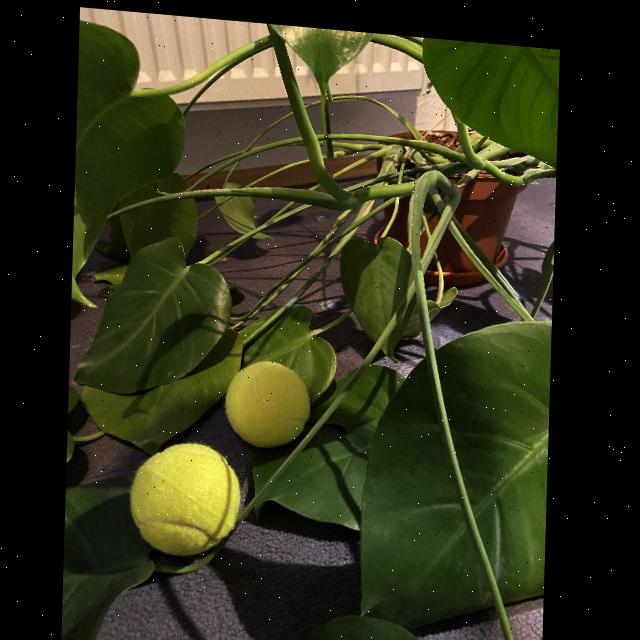Tennisball: (130, 443, 240, 556), (225, 361, 310, 448)
